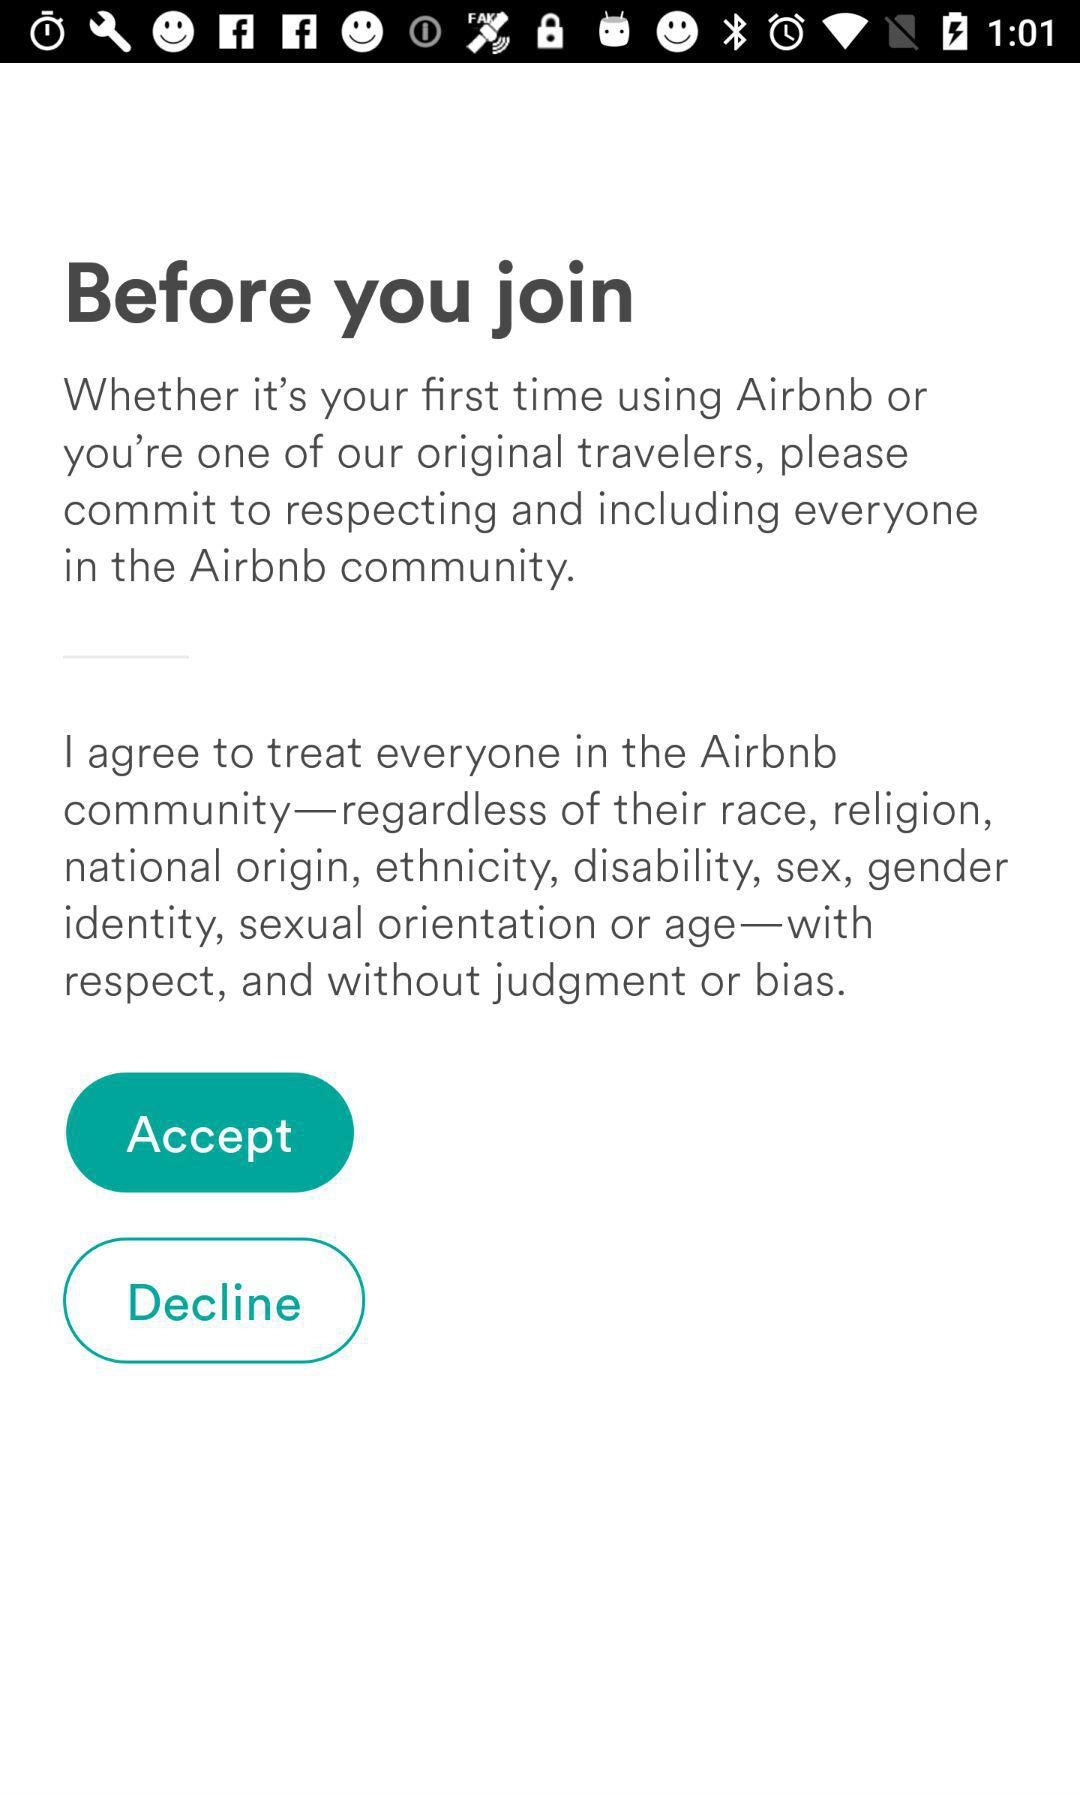Text: (64, 734, 1010, 1006), (64, 375, 979, 592), (69, 259, 633, 341)
TextButton: (63, 1237, 368, 1365), (67, 1073, 356, 1194)
UpperTaskBar: (1, 1, 1080, 64)
